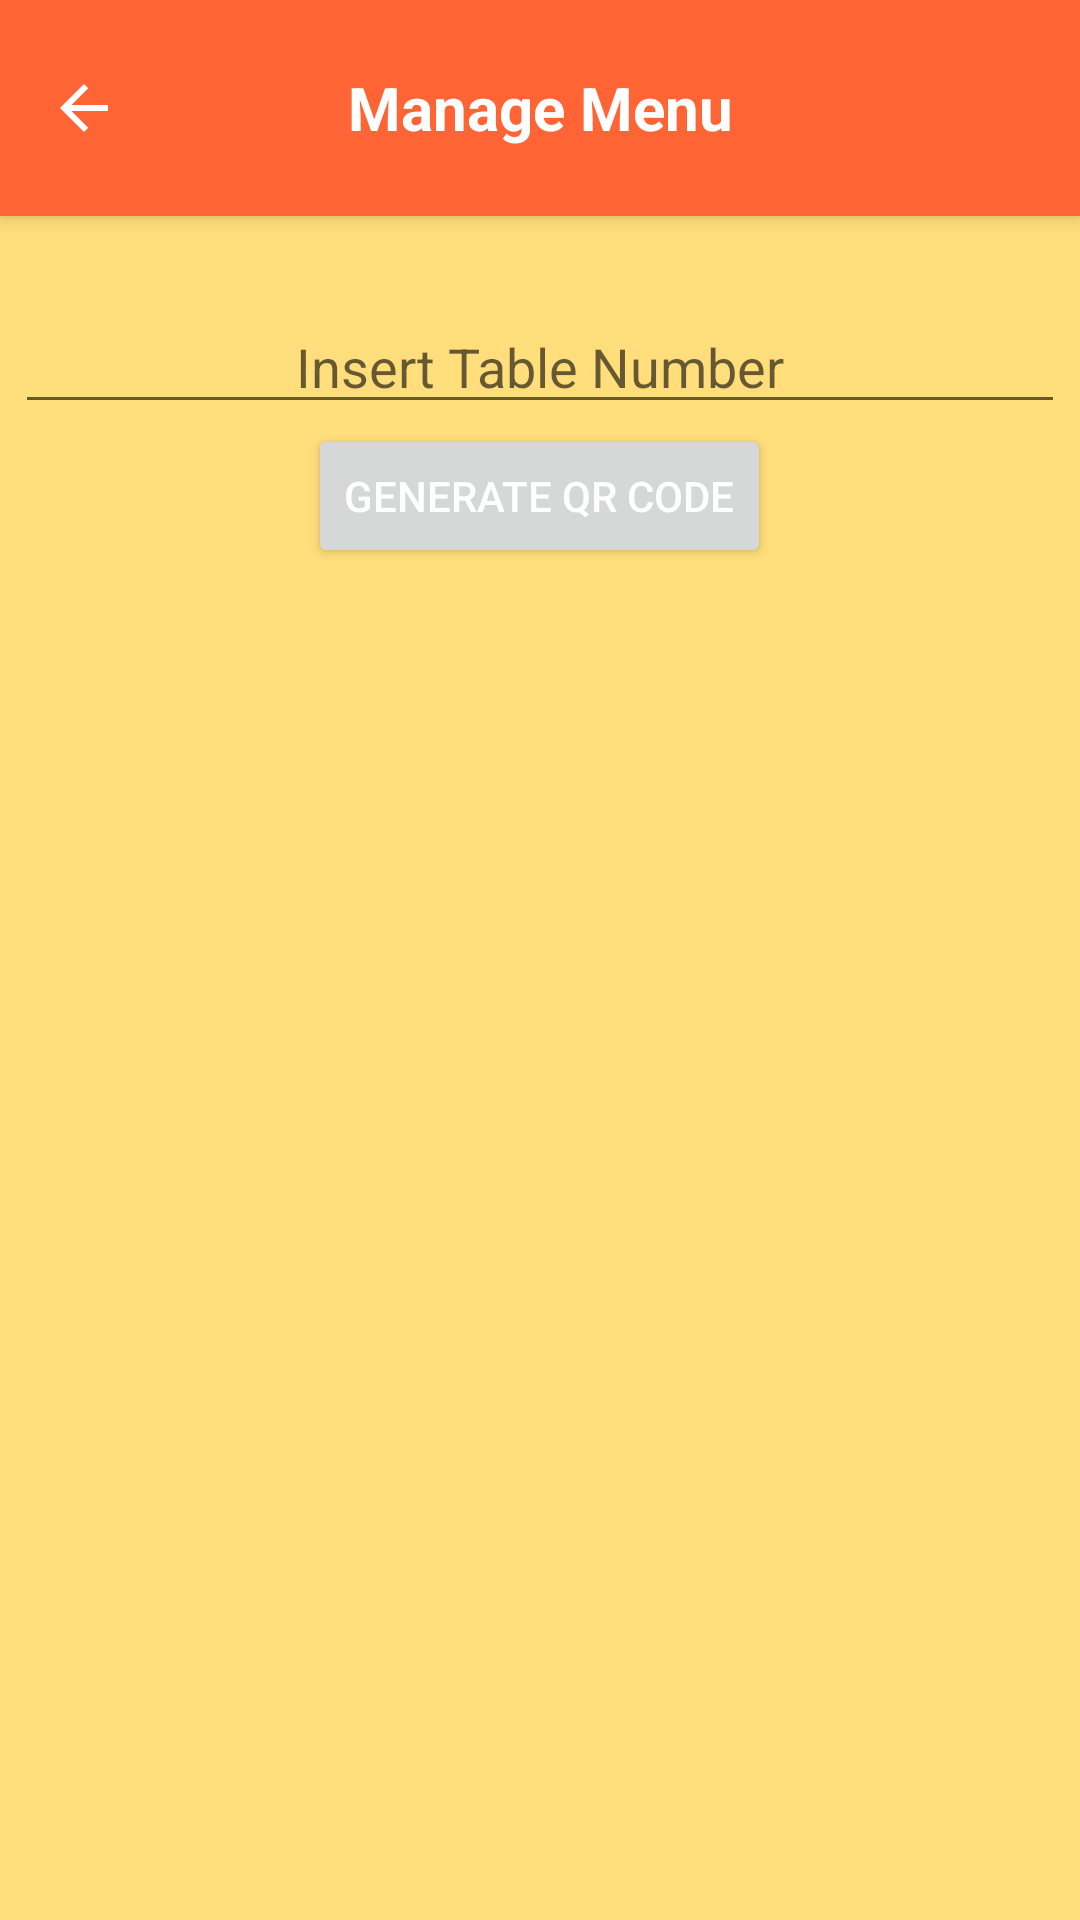

Icons on this 1080px x 1920px Android screen, each with its box as [x1, y1, x2, y2]:
Back: [60, 84, 108, 132]
